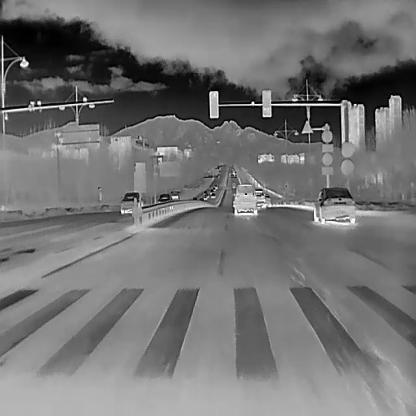car: (311, 186, 355, 225), (233, 183, 257, 215), (120, 191, 142, 214), (254, 187, 265, 209), (157, 193, 172, 206), (263, 192, 271, 207), (209, 193, 216, 198), (202, 193, 207, 199), (213, 183, 218, 188), (209, 188, 213, 193), (212, 185, 215, 190)
